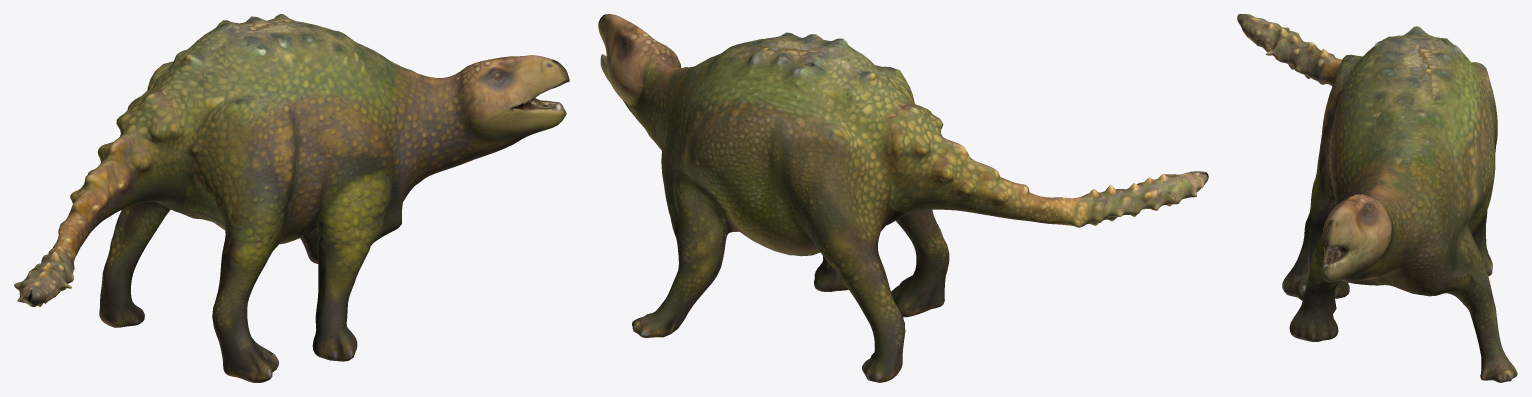
3 views of the same model, side by side, from view 1: azimuth 30°, elevation 25°; view 2: azimuth 150°, elevation 25°; view 3: azimuth 270°, elevation 25° (orthographic). The views are drawn at different scales.
Visible parts, largest first — view 1: Mesh0; view 2: Mesh0; view 3: Mesh0.
Part boxes in pixels (bbox=[...]): Mesh0: bbox=[14, 14, 569, 382]; Mesh0: bbox=[598, 14, 1208, 382]; Mesh0: bbox=[1237, 14, 1517, 382].
Size of the model in its own units: 1.47 by 0.7042 by 0.6417.
1 material, 1 textured.
